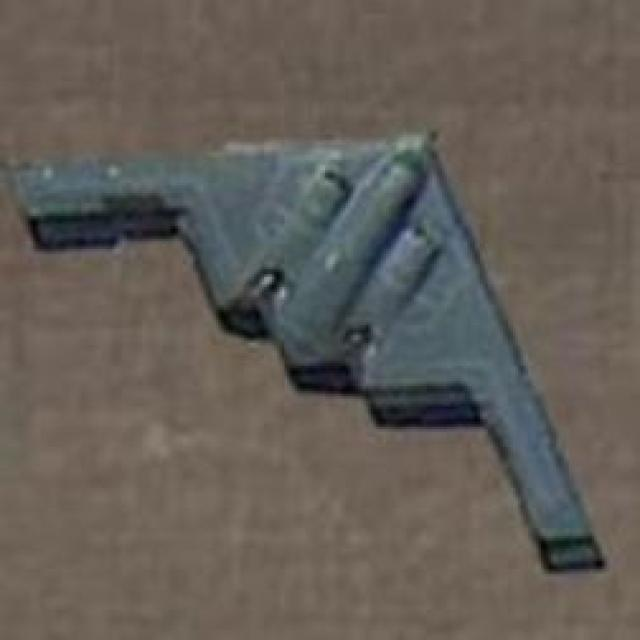B-2_TopDown: (0, 122, 610, 574)
